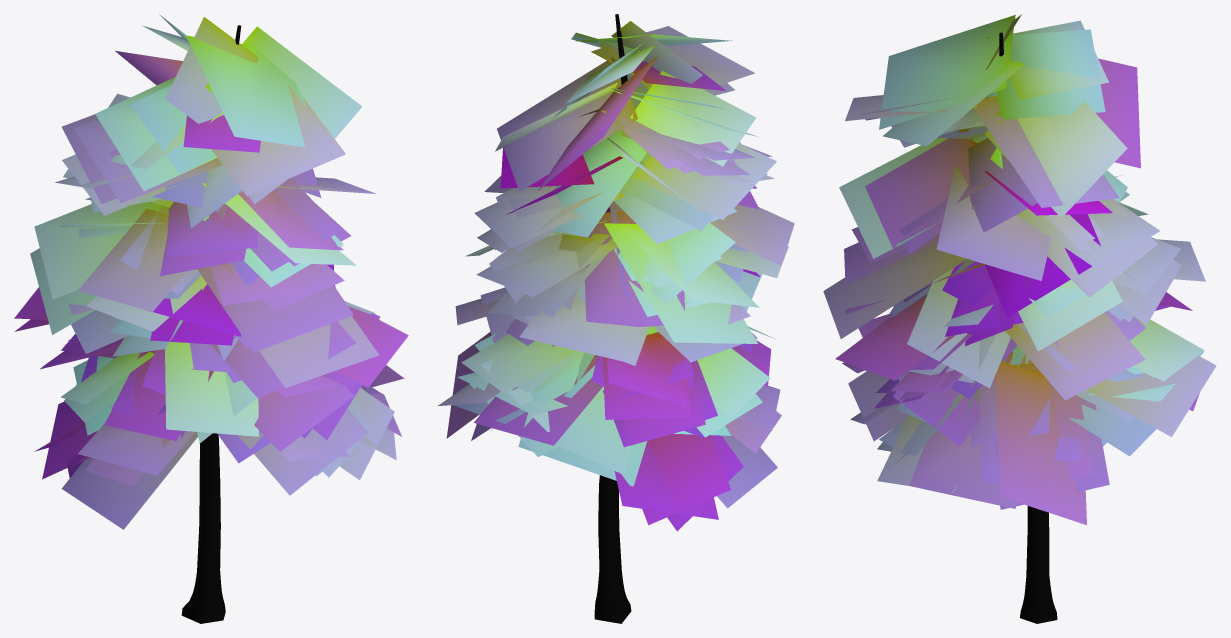
Rendered from tree_cedar_b_lod1.glb.
The picture shows the model from 3 angles, left to right: view 1: azimuth 30°, elevation 25°; view 2: azimuth 150°, elevation 25°; view 3: azimuth 270°, elevation 25°; orthographic projection. The views are drawn at different scales.
Parts seen in each view (by area): view 1: tree_cedar_b_lod1; view 2: tree_cedar_b_lod1; view 3: tree_cedar_b_lod1.
Boxes of the visible parts, left/top/right/bottom form: tree_cedar_b_lod1: left=14, top=14, right=408, bottom=623; tree_cedar_b_lod1: left=437, top=14, right=794, bottom=623; tree_cedar_b_lod1: left=823, top=14, right=1216, bottom=623.
Size of the model in its own units: 15.59 by 27.35 by 16.34.
